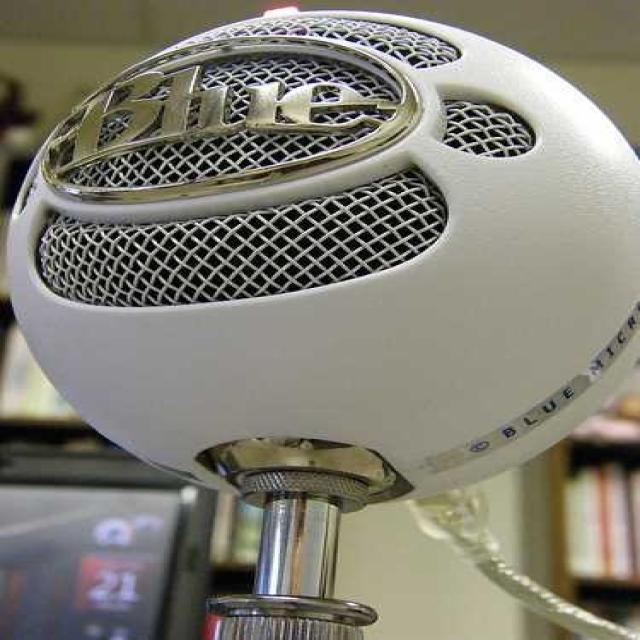microphone: (12, 9, 628, 637)
